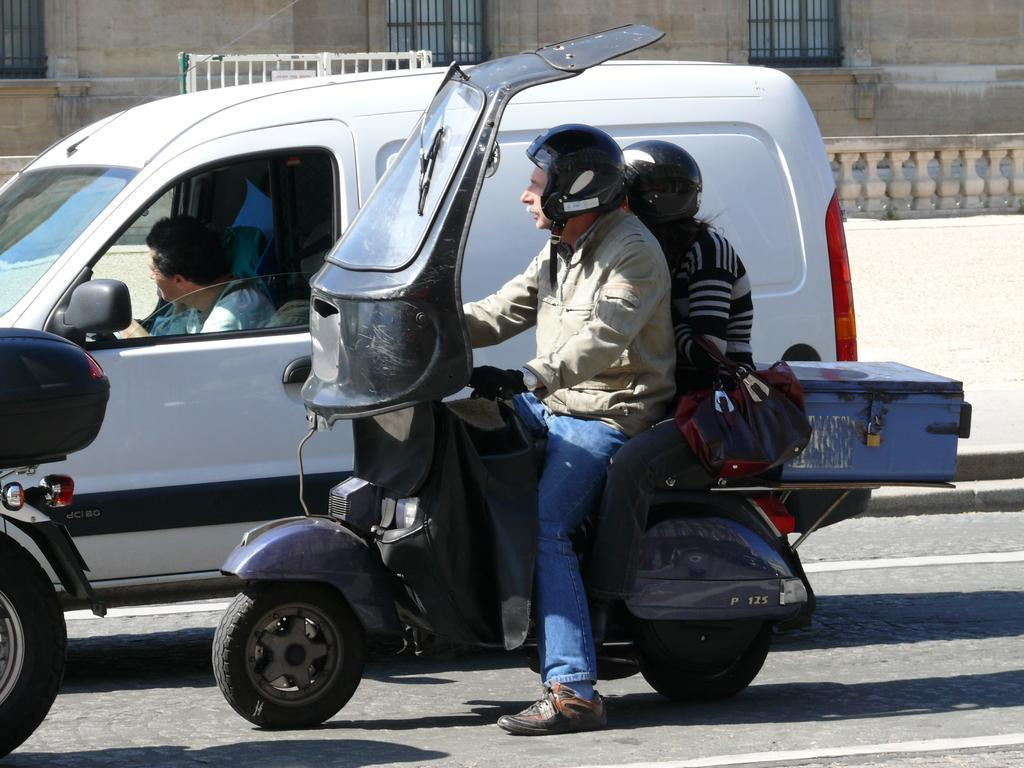helmet: (519, 122, 629, 246), (608, 137, 704, 228)
nohelmet: (145, 213, 231, 306)
